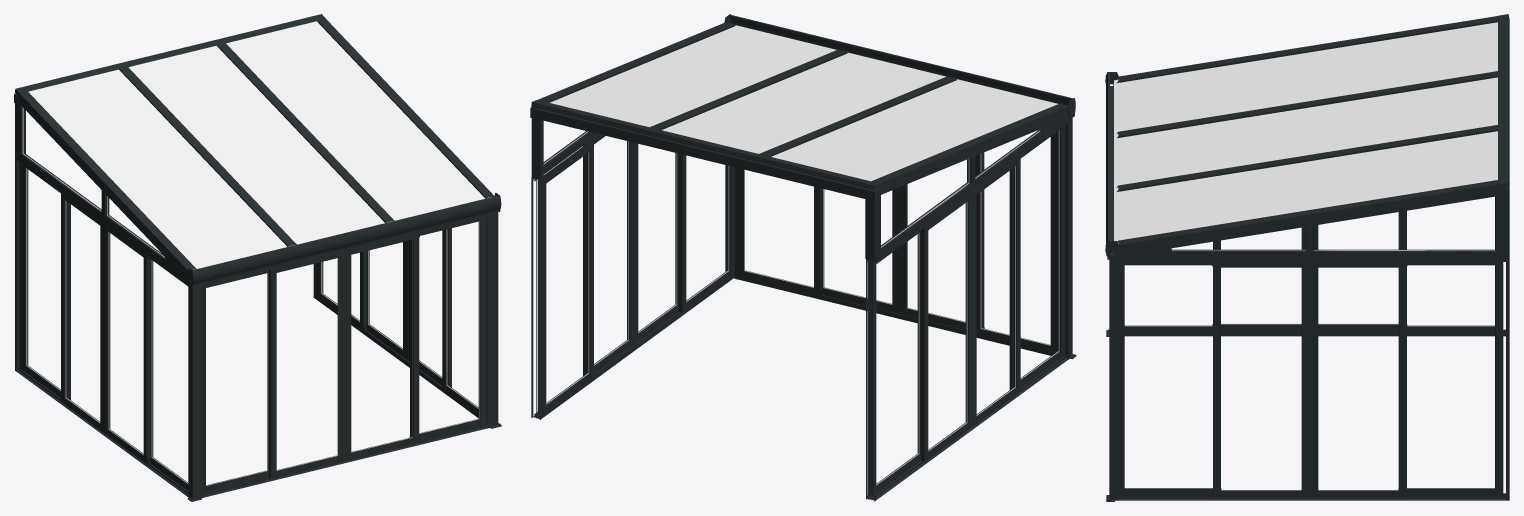
3 renders of one model, left to right at view 1: azimuth 30°, elevation 25°; view 2: azimuth 150°, elevation 25°; view 3: azimuth 270°, elevation 25°, orthographic. The views are drawn at different scales.
Visible parts, largest first — view 1: priximbattable_net_pergolanda_260856_pergolanda_top_prix_4x3, folha2_2, folha3_2, folha3, folha1, folha2, folha4_2, folha1_2, folha1_3, folha2_3, folha4, folha3_3 (+1 smaller); view 2: priximbattable_net_pergolanda_260856_pergolanda_top_prix_4x3, folha2, folha4_3, folha3, folha4, folha3_3, folha1, folha1_2, folha1_3, folha4_2, folha2_2, folha2_3 (+1 smaller); view 3: priximbattable_net_pergolanda_260856_pergolanda_top_prix_4x3, folha3_3, folha2_3, folha4_3, folha1_3, folha1, folha2, folha3, folha4.
Boxes of the visible parts, left/top/right/bottom form: priximbattable_net_pergolanda_260856_pergolanda_top_prix_4x3: left=14, top=14, right=501, bottom=501; folha2_2: left=269, top=251, right=345, bottom=478; folha3_2: left=345, top=233, right=419, bottom=460; folha3: left=104, top=224, right=149, bottom=464; folha1: left=21, top=164, right=70, bottom=399; folha2: left=61, top=192, right=103, bottom=432; folha4_2: left=409, top=217, right=485, bottom=440; folha1_2: left=203, top=270, right=268, bottom=492; folha1_3: left=442, top=229, right=478, bottom=414; folha2_3: left=406, top=228, right=451, bottom=387; folha4: left=150, top=258, right=188, bottom=490; folha3_3: left=366, top=241, right=406, bottom=358; priximbattable_net_pergolanda_260856_pergolanda_top_prix_4x3: left=530, top=14, right=1076, bottom=501; folha2: left=921, top=193, right=972, bottom=461; folha4_3: left=541, top=141, right=593, bottom=414; folha3: left=972, top=158, right=1020, bottom=426; folha4: left=1009, top=126, right=1064, bottom=389; folha3_3: left=583, top=134, right=634, bottom=375; folha1: left=870, top=230, right=920, bottom=496; folha1_2: left=975, top=133, right=1055, bottom=353; folha1_3: left=679, top=153, right=733, bottom=312; folha4_2: left=737, top=168, right=822, bottom=296; folha2_2: left=899, top=152, right=984, bottom=329; folha2_3: left=634, top=143, right=678, bottom=343; priximbattable_net_pergolanda_260856_pergolanda_top_prix_4x3: left=1105, top=14, right=1509, bottom=501; folha3_3: left=1310, top=262, right=1407, bottom=497; folha2_3: left=1212, top=262, right=1309, bottom=497; folha4_3: left=1398, top=262, right=1503, bottom=495; folha1_3: left=1118, top=262, right=1221, bottom=495; folha1: left=1398, top=197, right=1495, bottom=332; folha2: left=1314, top=212, right=1407, bottom=331; folha3: left=1212, top=227, right=1305, bottom=331; folha4: left=1124, top=240, right=1221, bottom=332.
Size of the model in its own units: 303 by 263 by 303.
1 material, 1 textured.
